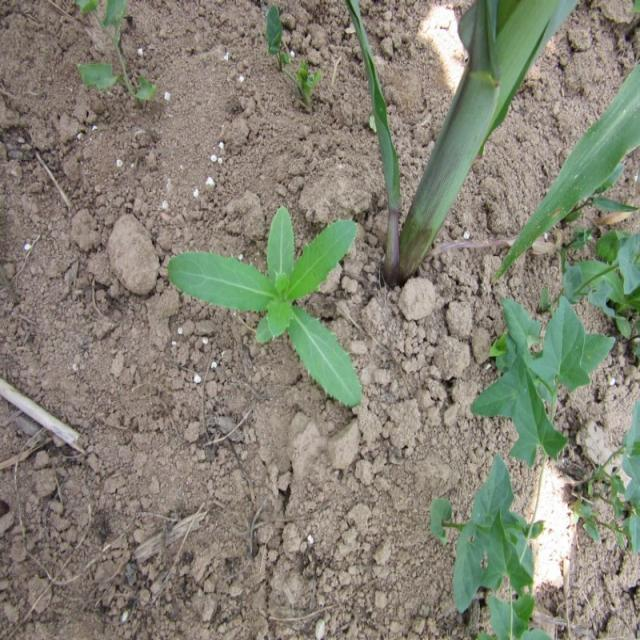cs: (164, 201, 371, 417)
